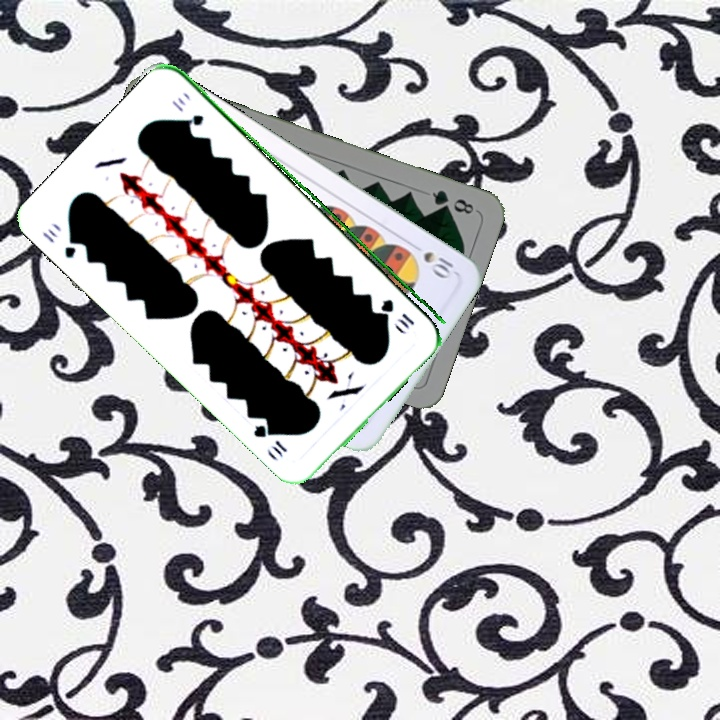G10: (38, 225, 84, 261), (378, 295, 417, 332)
G8: (428, 186, 479, 217)
S10: (406, 238, 456, 282)
